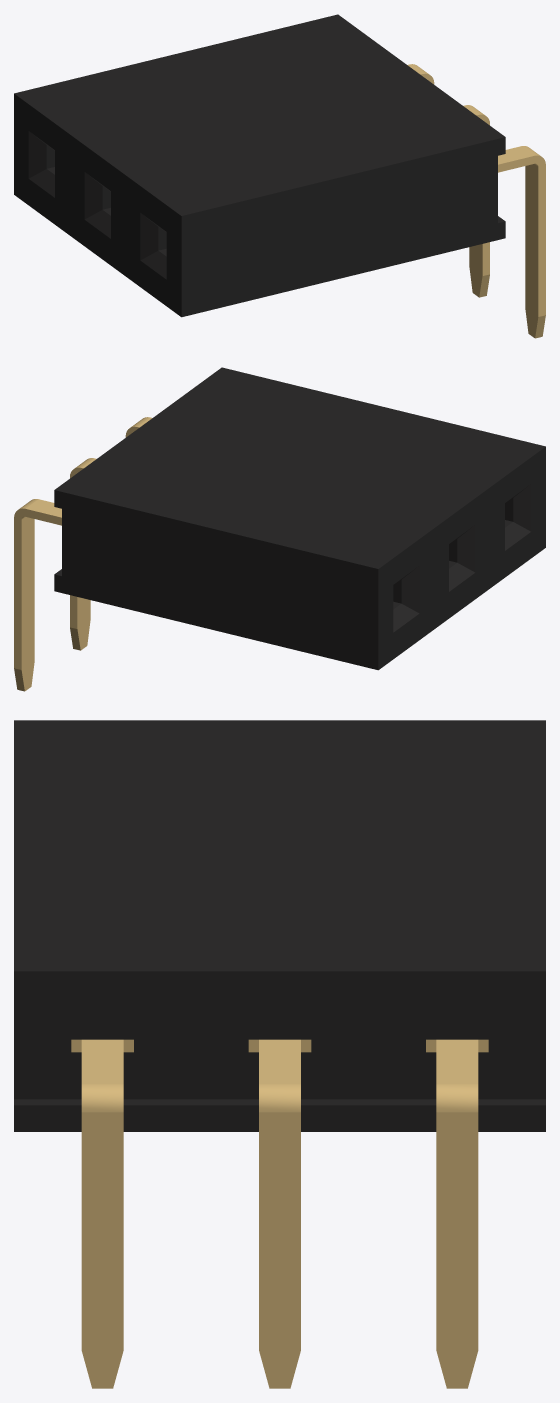
Rendered from kc-pinsocket_1x03_p2.54mm_horizontal.glb.
The picture shows the model from 3 angles, top to bottom: view 1: azimuth 30°, elevation 25°; view 2: azimuth 150°, elevation 25°; view 3: azimuth 270°, elevation 25°; orthographic projection. The views are drawn at different scales.
Parts seen in each view (by area): view 1: 0_0_0_0, 0.75_0.5_0.25_0.9; view 2: 0_0_0_0, 0.75_0.5_0.25_0.9; view 3: 0_0_0_0, 0.75_0.5_0.25_0.9.
Part boxes in pixels (x1=…): 0_0_0_0: x1=14, y1=14, x2=505, y2=317; 0.75_0.5_0.25_0.9: x1=407, y1=64, x2=545, y2=338; 0_0_0_0: x1=54, y1=367, x2=545, y2=670; 0.75_0.5_0.25_0.9: x1=14, y1=417, x2=152, y2=691; 0_0_0_0: x1=14, y1=720, x2=545, y2=1131; 0.75_0.5_0.25_0.9: x1=71, y1=1039, x2=488, y2=1388.
Bounding box in the file's own units: 1.01 × 0.584 × 0.762.
